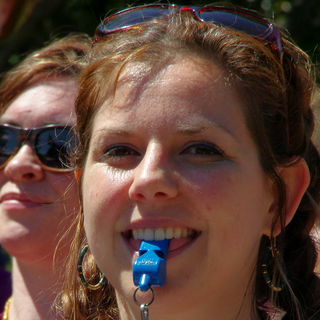eye: (175, 140, 228, 165), (98, 140, 142, 164)
